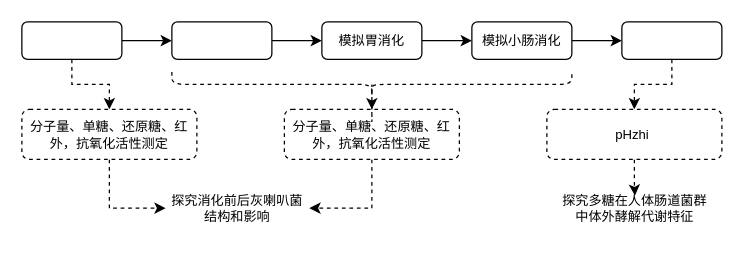
Image size: 744x253. Some labels were removed from this diagram. Here are the shapes that lost their labels. From the top down, the centre of each, then its label:
At (x=71, y=40): "灰喇叭菌多糖".
At (x=221, y=40): "模拟口腔消化".
At (x=671, y=40): "模拟大肠酵解".
